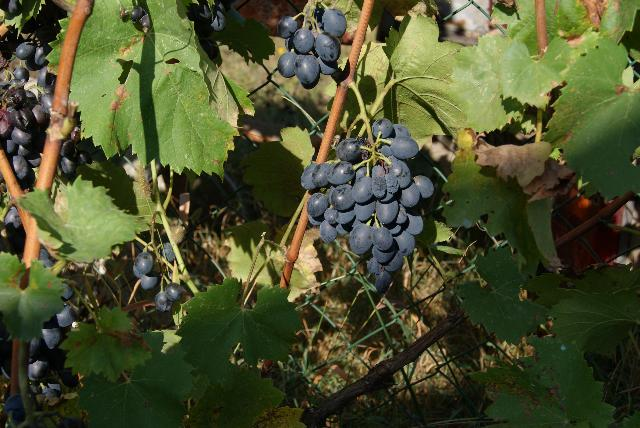grapes: (301, 119, 434, 292)
